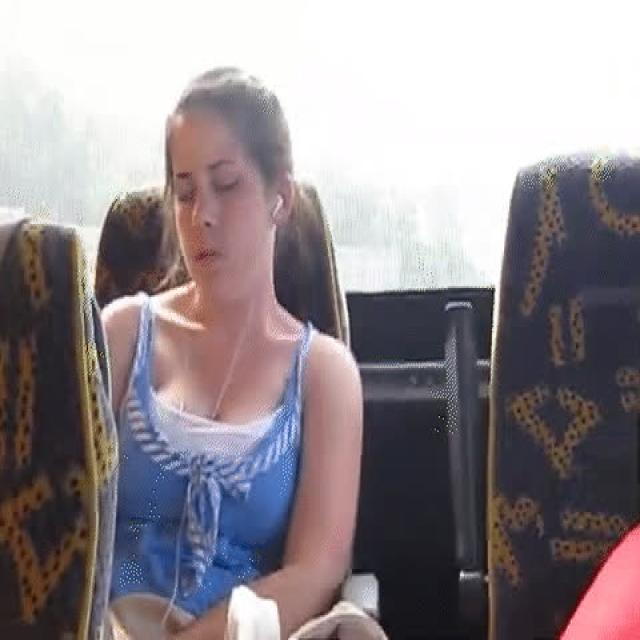no-seatbelt: (158, 61, 298, 297)
